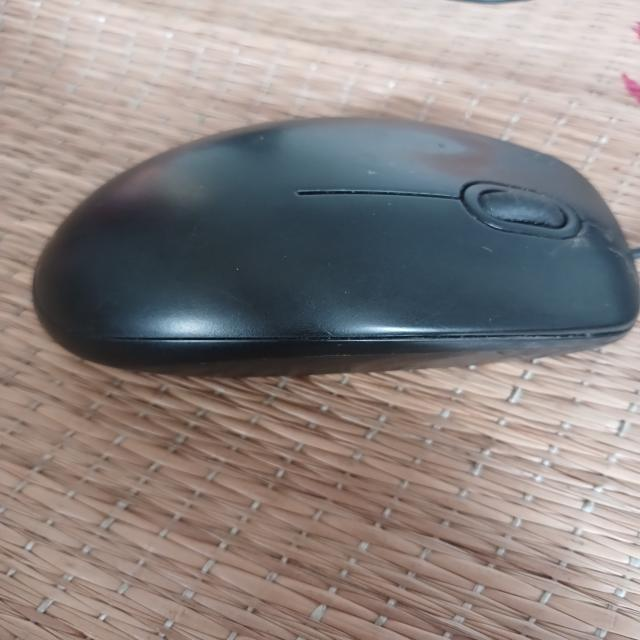mouse: (23, 115, 636, 367)
